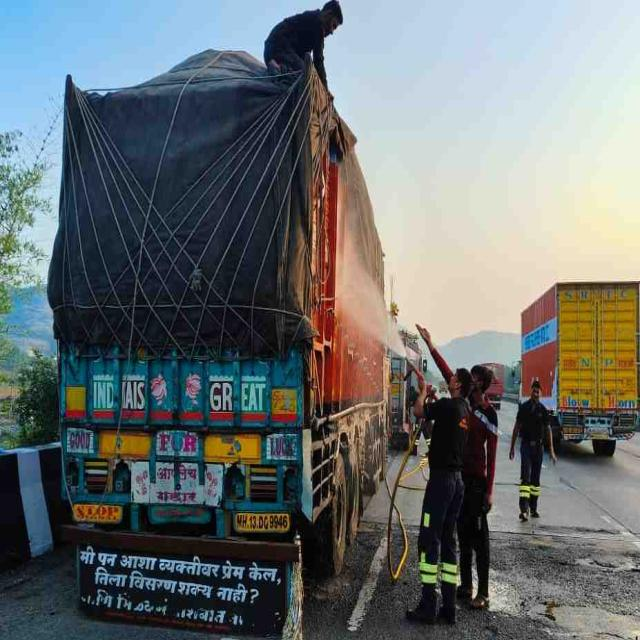truck: (49, 52, 389, 569), (520, 281, 640, 456)
